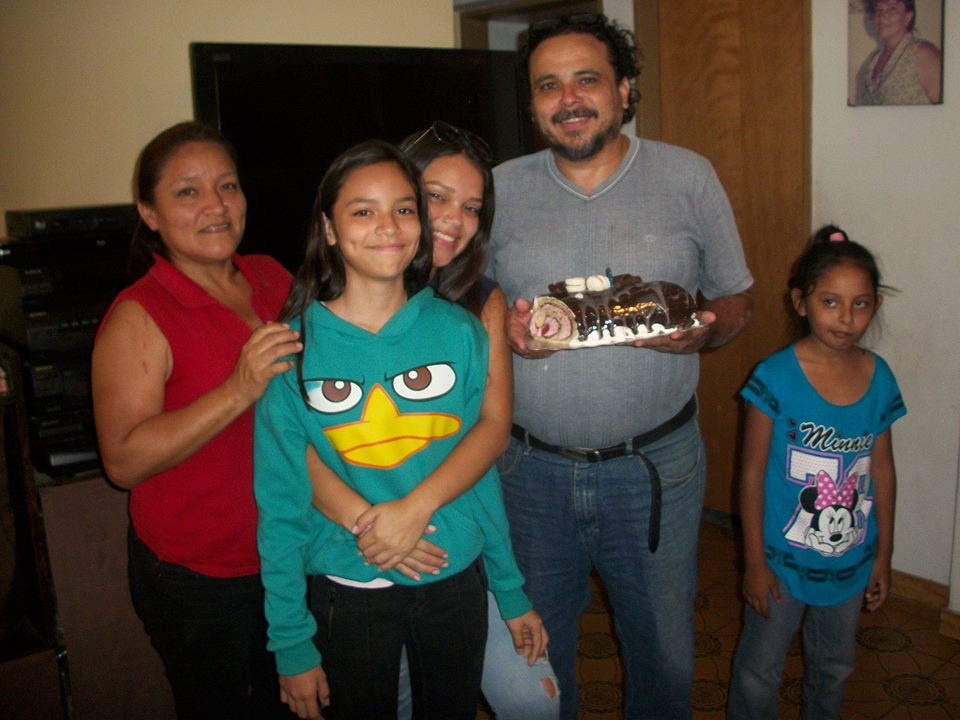person: (478, 25, 733, 332), (267, 151, 488, 480), (74, 128, 275, 434), (750, 232, 892, 447)
